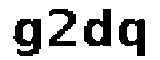2: (46, 6, 80, 50)
d: (82, 7, 114, 51)
g: (9, 15, 44, 60)
q: (116, 15, 150, 60)
